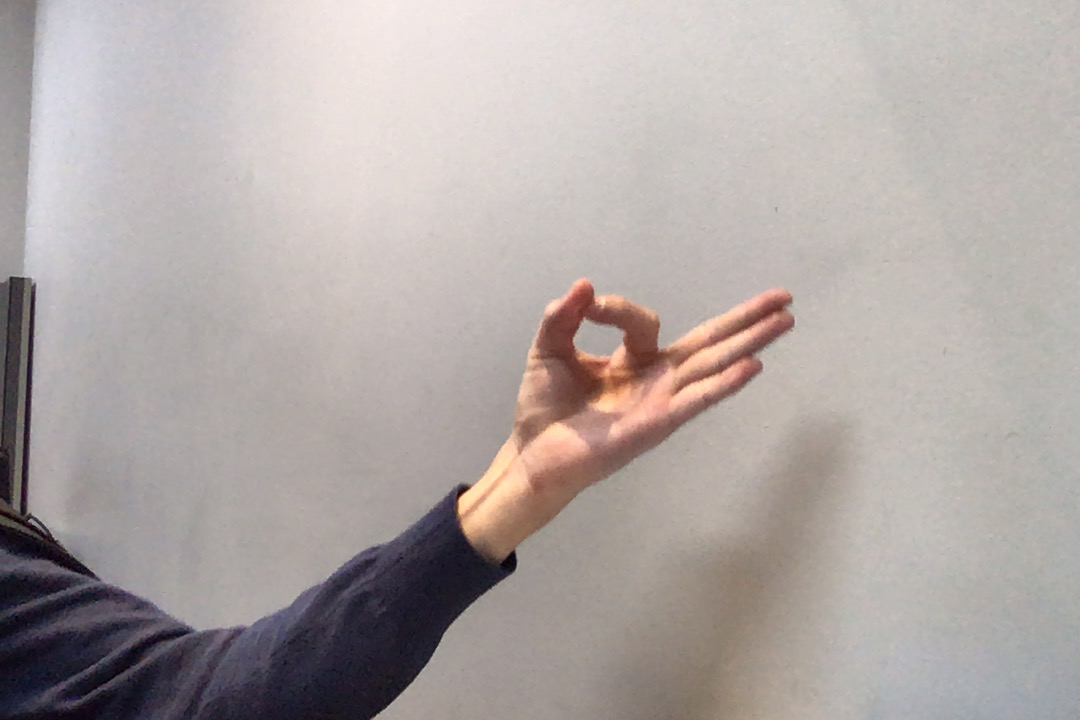oksign: (505, 269, 805, 494)
